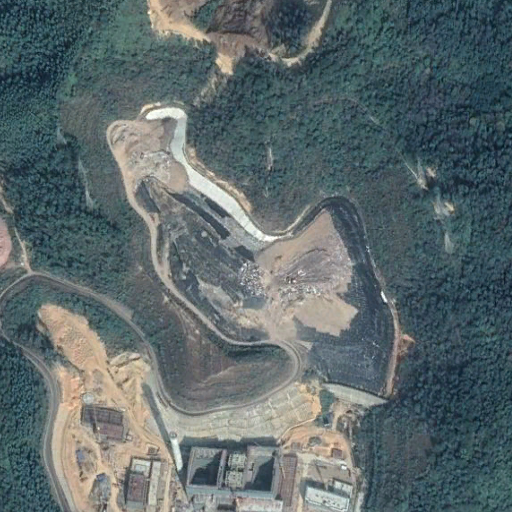lf: (109, 106, 407, 395)
